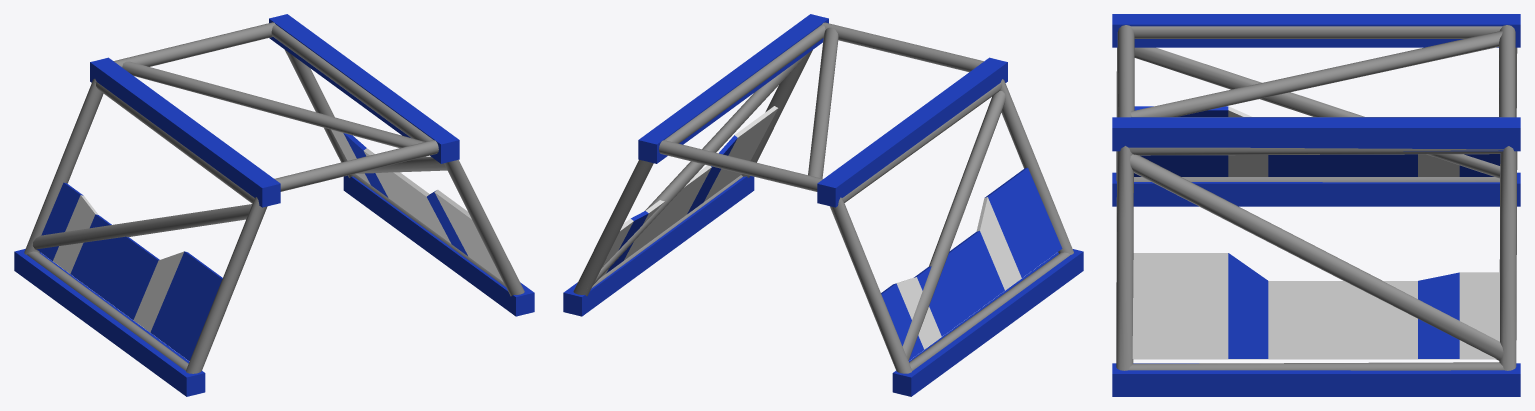
Rendered from WalkwayProtector02.fbx.
3 views of the same model, side by side, from view 1: azimuth 30°, elevation 25°; view 2: azimuth 150°, elevation 25°; view 3: azimuth 270°, elevation 25° (orthographic). The views are drawn at different scales.
Parts seen in each view (by area): view 1: Cube; view 2: Cube; view 3: Cube.
Part boxes in pixels (left/top/right/bottom): Cube: left=14, top=14, right=534, bottom=396; Cube: left=563, top=14, right=1083, bottom=396; Cube: left=1112, top=14, right=1520, bottom=396.
Bounding box in the file's own units: 896 × 468 × 768.
